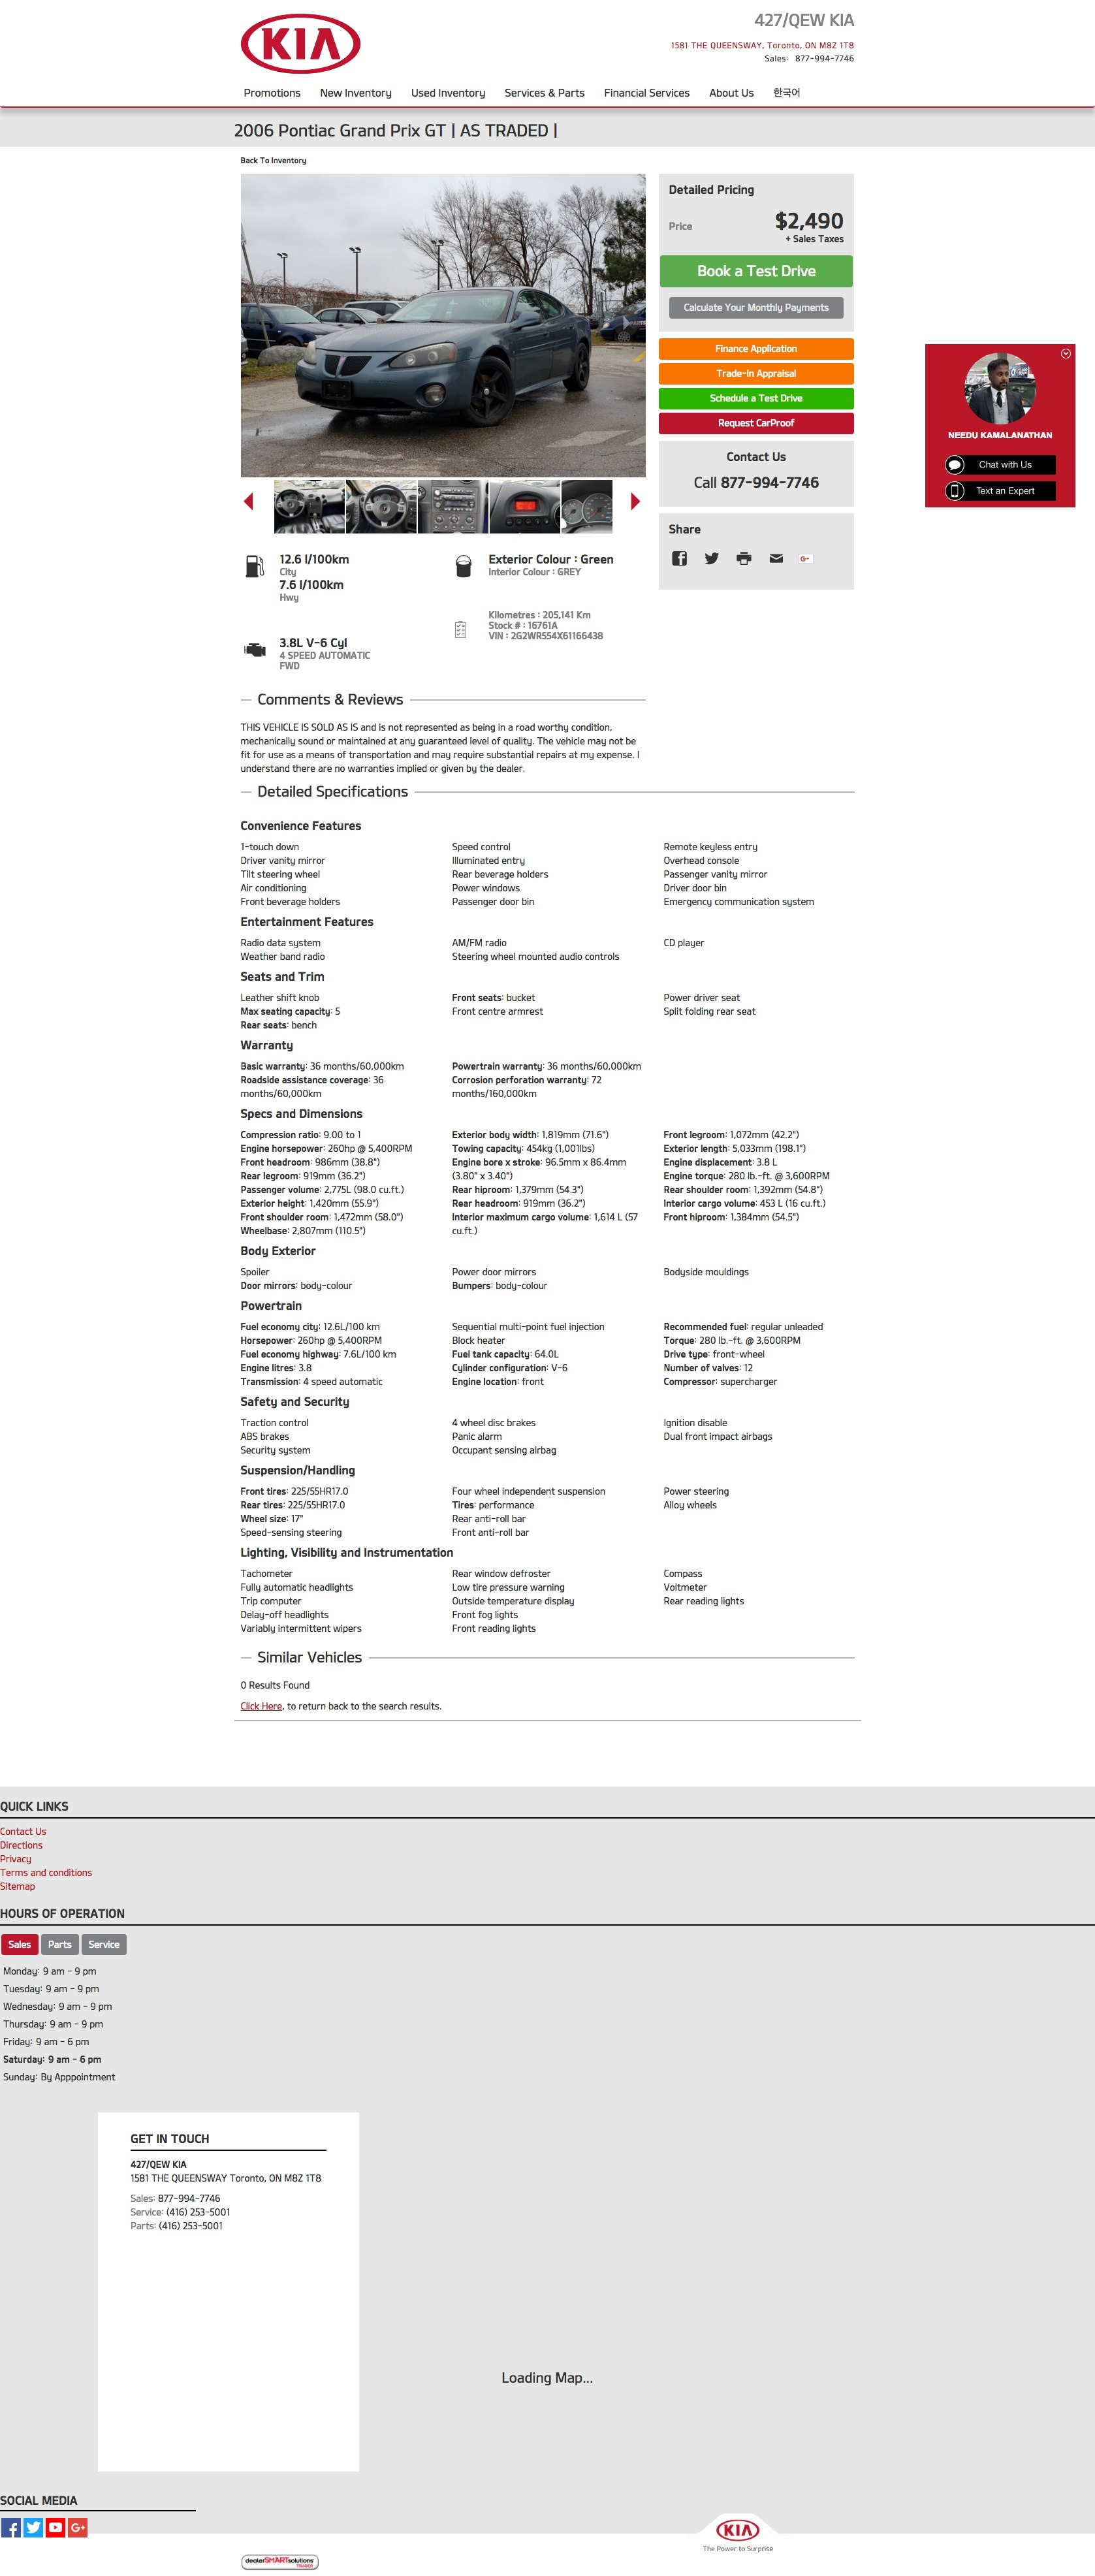car: (630, 493, 642, 513)
